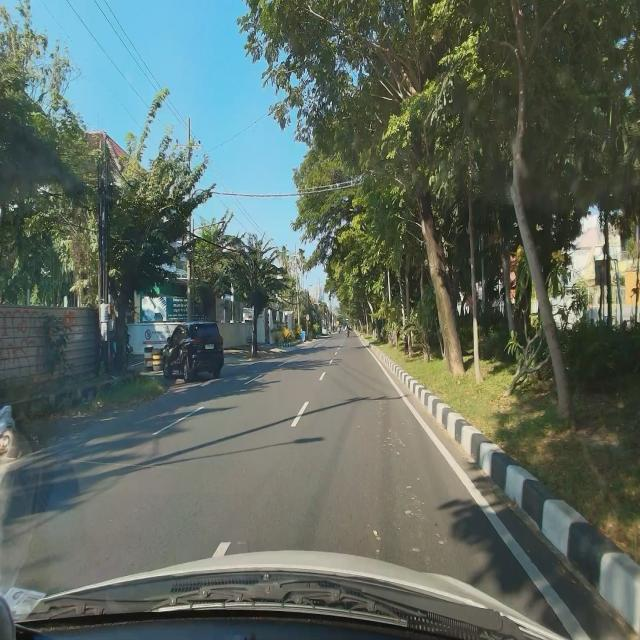car: (162, 319, 225, 382)
license-plate: (205, 344, 214, 349)
